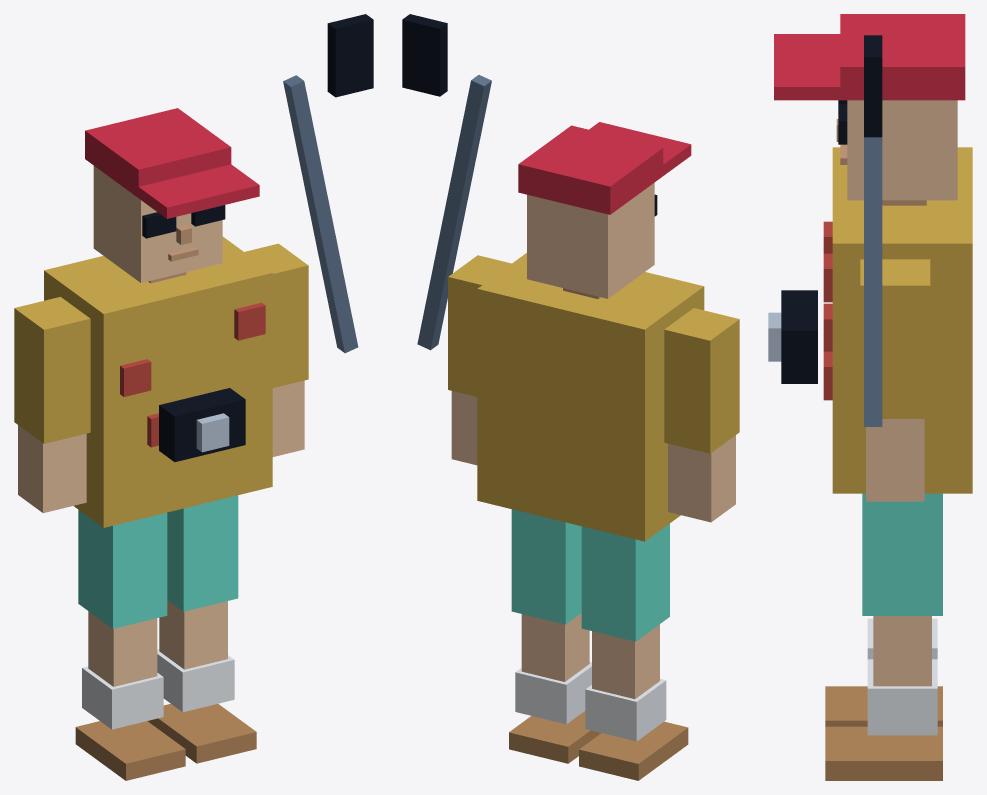
File: npc_tourist.glb
The picture shows the model from 3 angles, left to right: view 1: azimuth 30°, elevation 25°; view 2: azimuth 150°, elevation 25°; view 3: azimuth 270°, elevation 25°; orthographic projection. The views are drawn at different scales.
Visible parts, largest first — view 1: npc_tourist; view 2: npc_tourist; view 3: npc_tourist.
Part boxes in pixels (x1,y1,x2,y2): npc_tourist: [14, 14, 373, 780]; npc_tourist: [402, 14, 739, 780]; npc_tourist: [768, 14, 972, 780].
Size of the model in its own units: 1.22 by 2.4 by 0.5549.
1 material, 1 textured.
